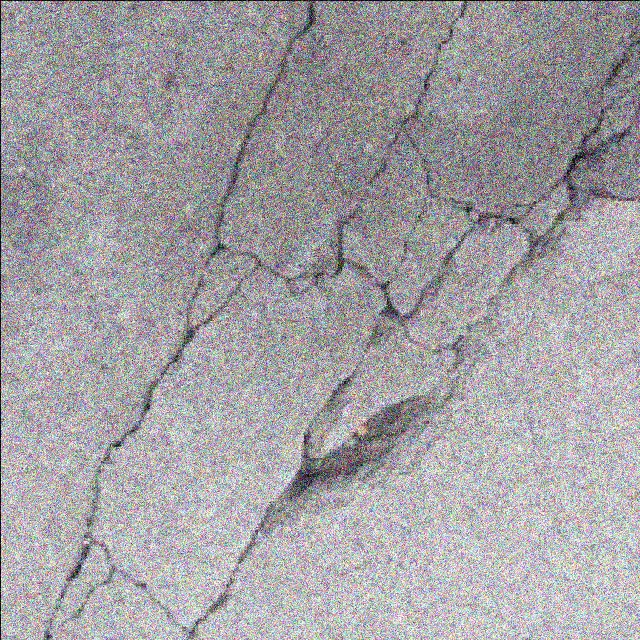SurfaceCrack: (214, 0, 640, 384), (40, 318, 326, 640)
